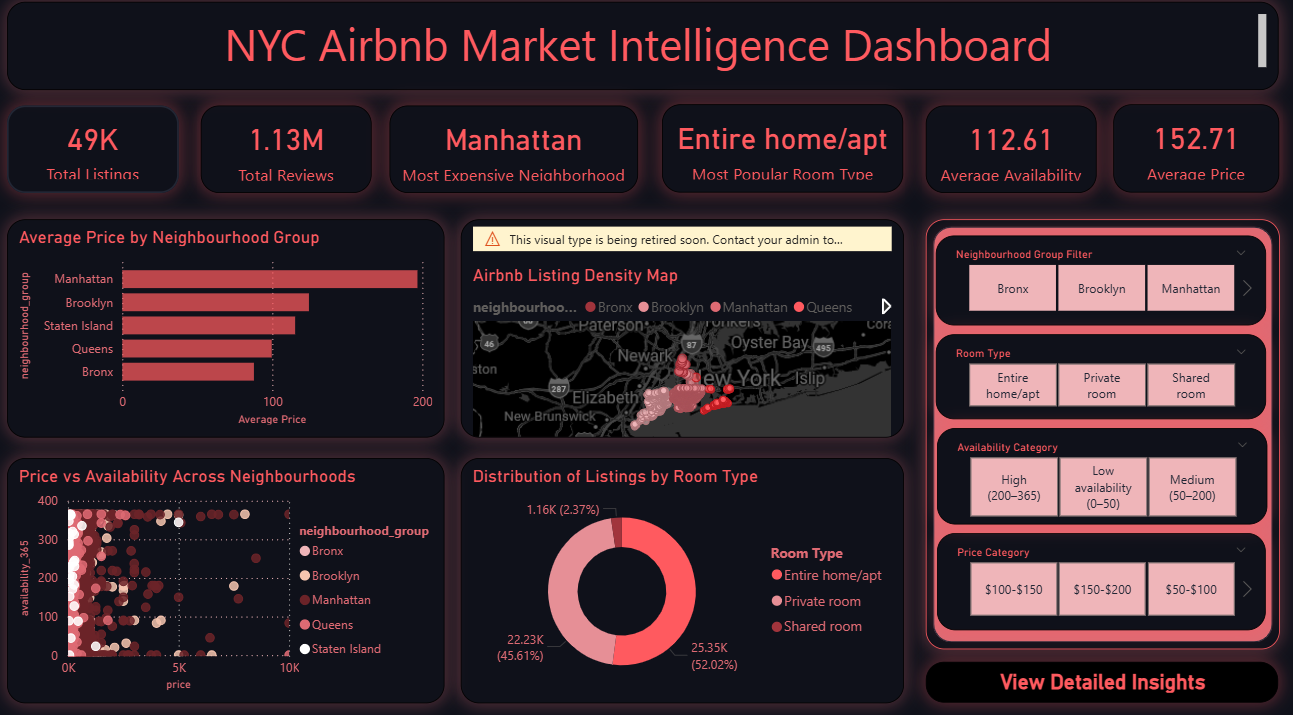

What the dashboard file says about the page in this screenshot:
{"tool":"powerbi","page":{"name":"Main","canvas":[1280,720],"ordinal":0},"visuals":[{"type":"shape","box":[918.3,226.2,346.1,420.7],"z":0},{"type":"card","fields":{"Values":["AB_NYC_2019.Average Price"]},"box":[1102,114,162,86],"z":1000},{"type":"card","fields":{"Values":["AB_NYC_2019.Total Reviews"]},"box":[209.6,114.8,166.8,85.4],"z":2000},{"type":"card","title":"Total Listings","fields":{"Values":["AB_NYC_2019.Total Listings"]},"box":[20,114.8,168.2,85.4],"z":3000},{"type":"card","fields":{"Values":["AB_NYC_2019.Average Availability"]},"box":[918.3,114.8,166.8,85.4],"z":4000},{"type":"textbox","box":[20,14,1244,86],"z":5000},{"type":"card","fields":{"Values":["AB_NYC_2019.Most Expensive Neighborhood Group"]},"box":[393.7,114.8,242.9,85.4],"z":6000},{"type":"card","fields":{"Values":["AB_NYC_2019.Most Popular Room Type"]},"box":[660,114,236,86],"z":7000},{"type":"barChart","title":"Average Price by Neighbourhood Group","fields":{"Category":["AB_NYC_2019.neighbourhood_group"],"Y":["AB_NYC_2019.Average Price"]},"box":[20,226.7,428.3,213.3],"z":8000},{"type":"map","title":"Airbnb Listing Density Map","fields":{"Y":["AB_NYC_2019.latitude"],"X":["AB_NYC_2019.longitude"],"Size":["CountNonNull(AB_NYC_2019.id)"],"Series":["AB_NYC_2019.neighbourhood_group"]},"box":[463.3,226.7,433.3,213.3],"z":9000},{"type":"donutChart","title":"Distribution of Listings by Room Type","fields":{"Category":["AB_NYC_2019.room_type"],"Y":["CountNonNull(AB_NYC_2019.room_type)"]},"box":[463.3,460,433.3,240],"z":10000},{"type":"scatterChart","title":"Price vs Availability Across Neighbourhoods","fields":{"X":["AB_NYC_2019.price"],"Y":["AB_NYC_2019.availability_365"],"Series":["AB_NYC_2019.neighbourhood_group"]},"box":[19.6,460,428,239.7],"z":11000},{"type":"group","id":"g1","title":"Group 1","box":[928.1,242.1,322.8,386.4],"z":12000},{"type":"slicer","fields":{"Values":["AB_NYC_2019.neighbourhood_group"]},"box":[928.1,242.1,323,87.6],"z":12000,"group":"g1"},{"type":"slicer","fields":{"Values":["AB_NYC_2019.room_type"]},"box":[928.4,338.5,323.2,83.5],"z":13000,"group":"g1"},{"type":"actionButton","title":"View Detailed Insights","box":[918.3,659.1,344.8,40.4],"z":13000},{"type":"slicer","fields":{"Values":["AB_NYC_2019.Price Category"]},"box":[929.5,533.5,321.8,95],"z":14000,"group":"g1"},{"type":"slicer","fields":{"Values":["AB_NYC_2019.Availability Category"]},"box":[929,430.7,323.2,94],"z":15000,"group":"g1"}]}

Visuals, with their boxes in screenshot pixels (x1, y1, x2, y2), scaled from the page's 1280x720 canvas onto the 1293x715 screenshot:
shape: (928,225,1277,642)
card - AB_NYC_2019.Average Price: (1113,113,1277,199)
card - AB_NYC_2019.Total Reviews: (212,114,380,199)
"Total Listings" card: (20,114,190,199)
card - AB_NYC_2019.Average Availability: (928,114,1096,199)
textbox: (20,14,1277,99)
card - AB_NYC_2019.Most Expensive Neighborhood Group: (398,114,643,199)
card - AB_NYC_2019.Most Popular Room Type: (667,113,905,199)
"Average Price by Neighbourhood Group" barChart: (20,225,453,437)
"Airbnb Listing Density Map" map: (468,225,906,437)
"Distribution of Listings by Room Type" donutChart: (468,457,906,695)
"Price vs Availability Across Neighbourhoods" scatterChart: (20,457,452,695)
"Group 1" group: (938,240,1264,624)
slicer - AB_NYC_2019.neighbourhood_group: (938,240,1264,327)
slicer - AB_NYC_2019.room_type: (938,336,1264,419)
"View Detailed Insights" actionButton: (928,655,1276,695)
slicer - AB_NYC_2019.Price Category: (939,530,1264,624)
slicer - AB_NYC_2019.Availability Category: (938,428,1265,521)
